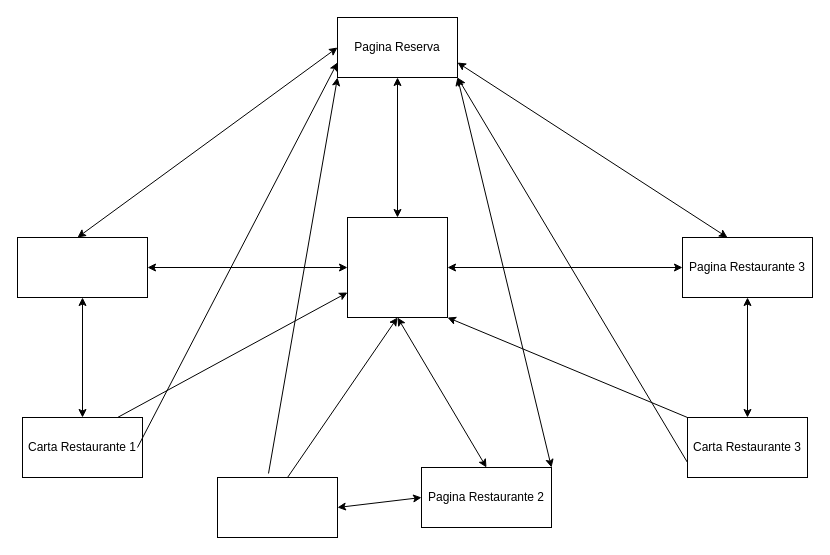
Image size: 830x555. Some labels were removed from this diagram. The centre of each missing label's shape, as x and y in pixels:
Carta Restaurante 2: pixel 277 507
Pagina Principal: pixel 397 267
Pagina Restaurante 1: pixel 82 267
